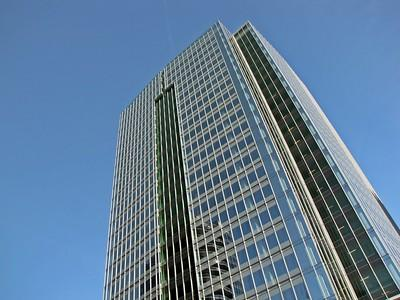building: (99, 18, 400, 300)
